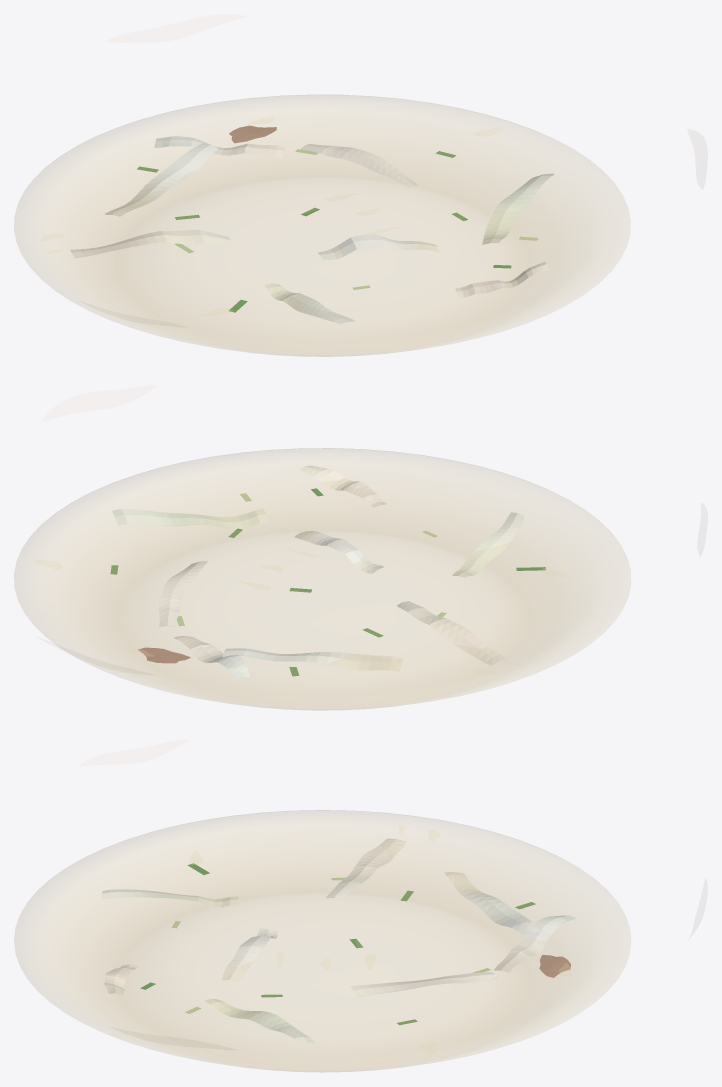
File: pho_leftovers_v003.glb
3 renders of one model, top to bottom at view 1: azimuth 30°, elevation 25°; view 2: azimuth 150°, elevation 25°; view 3: azimuth 270°, elevation 25°, orthographic.
Visible parts, largest first — view 1: BROTH_POOL, NOODLE_SCRAPS_08_WET_SOFT, BROTH_OIL_DETAIL, SCALLION_FRAGMENTS_GREEN, MEAT_SCRAPS_ONE_PIECE; view 2: BROTH_POOL, NOODLE_SCRAPS_08_WET_SOFT, BROTH_OIL_DETAIL, SCALLION_FRAGMENTS_GREEN, MEAT_SCRAPS_ONE_PIECE; view 3: BROTH_POOL, NOODLE_SCRAPS_08_WET_SOFT, BROTH_OIL_DETAIL, SCALLION_FRAGMENTS_GREEN, MEAT_SCRAPS_ONE_PIECE.
Boxes of the visible parts, left/top/right/bottom form: BROTH_POOL: left=14, top=95, right=630, bottom=356; NOODLE_SCRAPS_08_WET_SOFT: left=70, top=136, right=554, bottom=324; BROTH_OIL_DETAIL: left=40, top=116, right=502, bottom=315; SCALLION_FRAGMENTS_GREEN: left=137, top=151, right=511, bottom=312; MEAT_SCRAPS_ONE_PIECE: left=229, top=125, right=276, bottom=143; BROTH_POOL: left=14, top=448, right=630, bottom=710; NOODLE_SCRAPS_08_WET_SOFT: left=112, top=465, right=524, bottom=678; BROTH_OIL_DETAIL: left=34, top=549, right=568, bottom=674; SCALLION_FRAGMENTS_GREEN: left=110, top=488, right=545, bottom=676; MEAT_SCRAPS_ONE_PIECE: left=138, top=647, right=190, bottom=663; BROTH_POOL: left=14, top=810, right=630, bottom=1072; NOODLE_SCRAPS_08_WET_SOFT: left=101, top=838, right=575, bottom=1043; BROTH_OIL_DETAIL: left=189, top=825, right=570, bottom=1054; SCALLION_FRAGMENTS_GREEN: left=140, top=863, right=535, bottom=1025; MEAT_SCRAPS_ONE_PIECE: left=539, top=955, right=570, bottom=977.
Bounding box in the file's own units: 0.1301 × 0.0186 × 0.1232.
